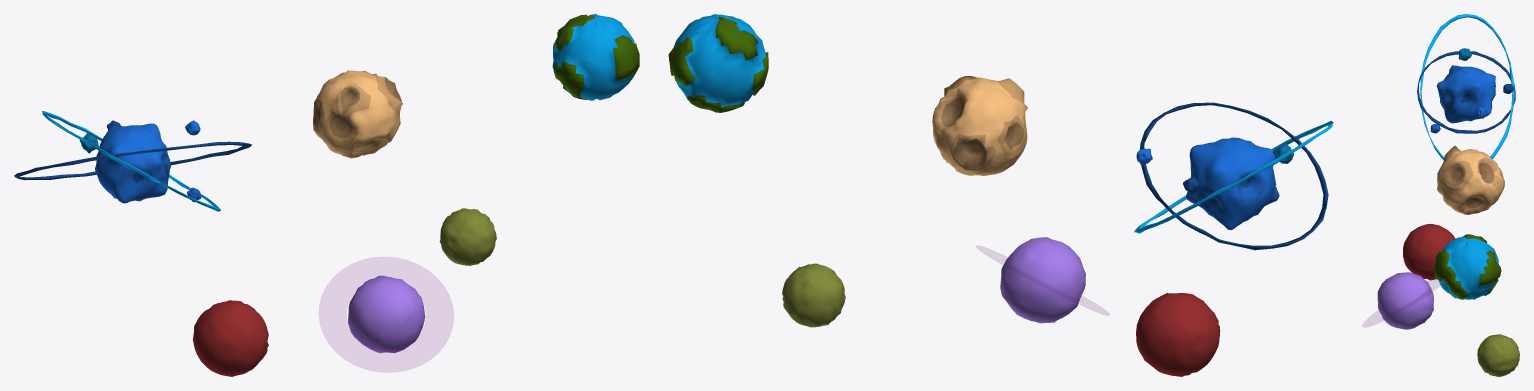
The model's file is planets.fbx.
The picture shows the model from 3 angles, left to right: view 1: azimuth 30°, elevation 25°; view 2: azimuth 150°, elevation 25°; view 3: azimuth 270°, elevation 25°; orthographic projection. The views are drawn at different scales.
Parts seen in each view (by area): view 1: planets.012, planets.006, planets, planets.003, planets.001, planets.007, planets.002, planets.005, planets.004; view 2: planets.006, planets, planets.007, planets.003, planets.001, planets.002, planets.005, planets.004, planets.012; view 3: planets.006, planets, planets.007, planets.003, planets.001, planets.002, planets.004, planets.005, planets.012.
Part boxes in pixels (left/top/right/bottom): planets.012: left=319, top=257, right=453, bottom=372; planets.006: left=313, top=70, right=403, bottom=158; planets: left=552, top=14, right=639, bottom=100; planets.003: left=348, top=275, right=425, bottom=353; planets.001: left=192, top=300, right=268, bottom=376; planets.007: left=95, top=123, right=171, bottom=203; planets.002: left=439, top=208, right=496, bottom=265; planets.005: left=14, top=141, right=251, bottom=180; planets.004: left=42, top=111, right=220, bottom=211; planets.006: left=932, top=76, right=1027, bottom=175; planets: left=668, top=14, right=768, bottom=112; planets.007: left=1186, top=137, right=1279, bottom=230; planets.003: left=1000, top=237, right=1085, bottom=323; planets.001: left=1136, top=293, right=1220, bottom=376; planets.002: left=782, top=263, right=845, bottom=327; planets.005: left=1139, top=102, right=1328, bottom=250; planets.004: left=1134, top=121, right=1333, bottom=233; planets.012: left=976, top=246, right=1109, bottom=315; planets.006: left=1437, top=145, right=1504, bottom=214; planets: left=1434, top=234, right=1501, bottom=299; planets.007: left=1436, top=65, right=1495, bottom=123; planets.003: left=1377, top=272, right=1433, bottom=329; planets.001: left=1403, top=223, right=1455, bottom=280; planets.002: left=1477, top=334, right=1519, bottom=376; planets.004: left=1420, top=14, right=1514, bottom=159; planets.005: left=1417, top=51, right=1515, bottom=133; planets.012: left=1362, top=278, right=1439, bottom=326.
Size of the model in its own units: 3100 by 10121 by 4468.
